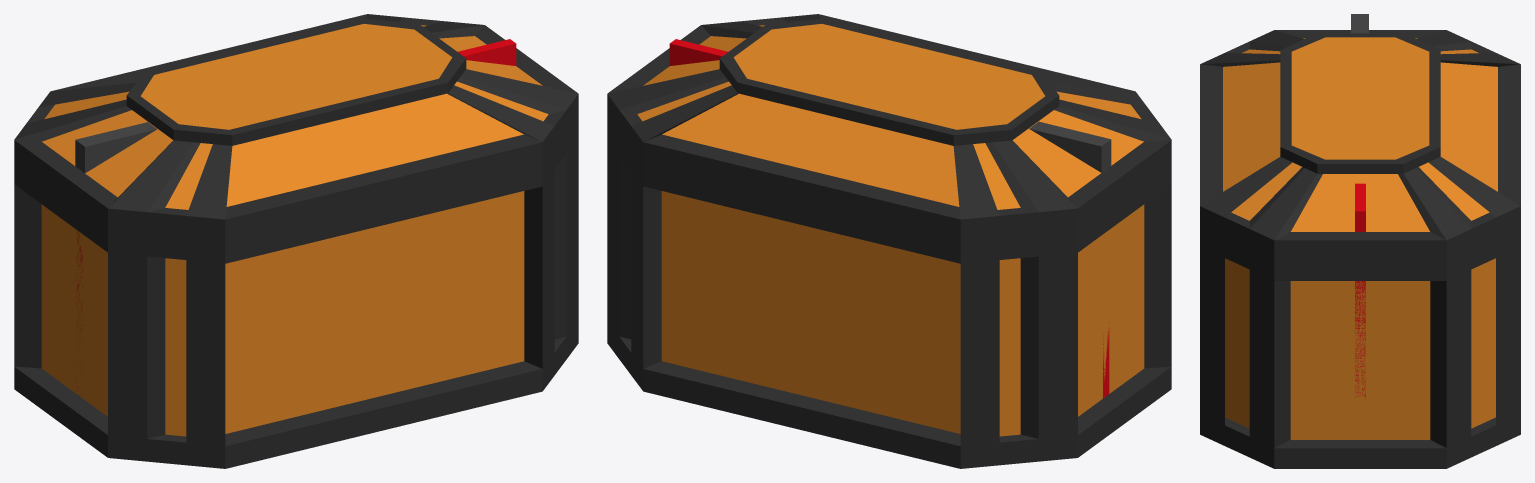
Rendered from assets.fbx.
The picture shows the model from 3 angles, left to right: view 1: azimuth 30°, elevation 25°; view 2: azimuth 150°, elevation 25°; view 3: azimuth 270°, elevation 25°; orthographic projection. The views are drawn at different scales.
Parts seen in each view (by area): view 1: Cube, Cube.001, Cube.002; view 2: Cube, Cube.001, Cube.002; view 3: Cube.001, Cube, Cube.002.
Part boxes in pixels (x1,y1,x2,y2): Cube: (14, 117, 578, 468); Cube.001: (14, 14, 578, 242); Cube.002: (75, 39, 516, 348); Cube: (607, 117, 1171, 468); Cube.001: (607, 14, 1171, 242); Cube.002: (669, 39, 1111, 398); Cube.001: (1200, 30, 1520, 261); Cube: (1200, 227, 1520, 468); Cube.002: (1351, 14, 1368, 397).
Size of the model in its own units: 217 by 128 by 140.
